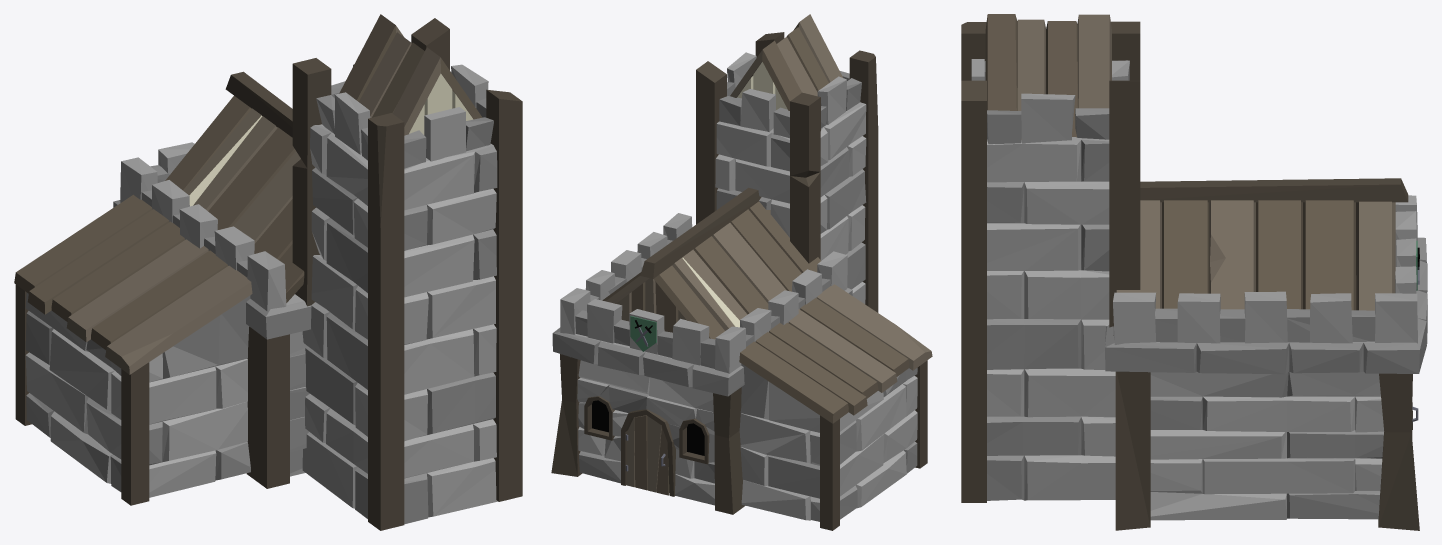
The model's file is _AMMOURRY.fbx.
3 views of the same model, side by side, from view 1: azimuth 30°, elevation 25°; view 2: azimuth 150°, elevation 25°; view 3: azimuth 270°, elevation 25° (orthographic). The views are drawn at different scales.
Visible parts, largest first — view 1: AMMOURRY2; view 2: AMMOURRY2; view 3: AMMOURRY2.
Boxes of the visible parts, x1,y1,x2,y2 form: AMMOURRY2: (14, 14, 522, 530); AMMOURRY2: (551, 14, 932, 530); AMMOURRY2: (961, 14, 1427, 530).
Bounding box in the file's own units: 732 × 908 × 834.
